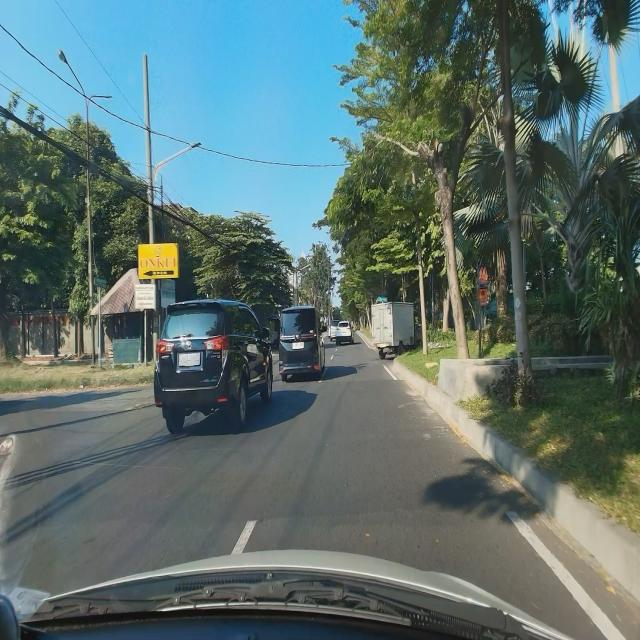car: (153, 297, 274, 436), (277, 302, 325, 384)
license-plate: (178, 351, 201, 368), (292, 341, 304, 350)
truck: (370, 302, 422, 359)
